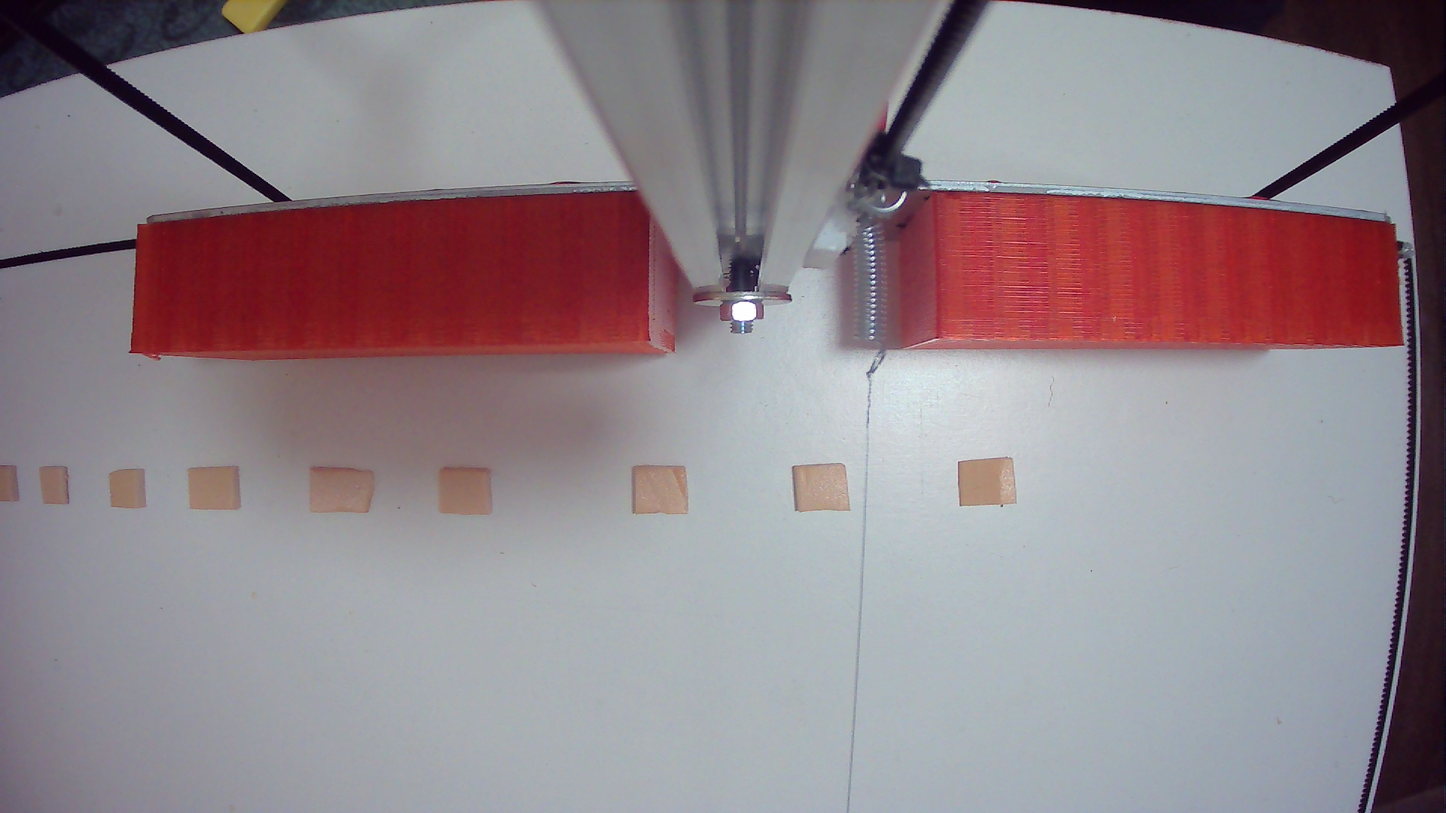polistirolo: (938, 438, 1032, 526), (293, 451, 393, 526), (426, 449, 506, 530), (780, 451, 858, 524), (625, 455, 702, 526), (178, 449, 254, 518), (102, 459, 152, 516), (35, 455, 78, 516)
